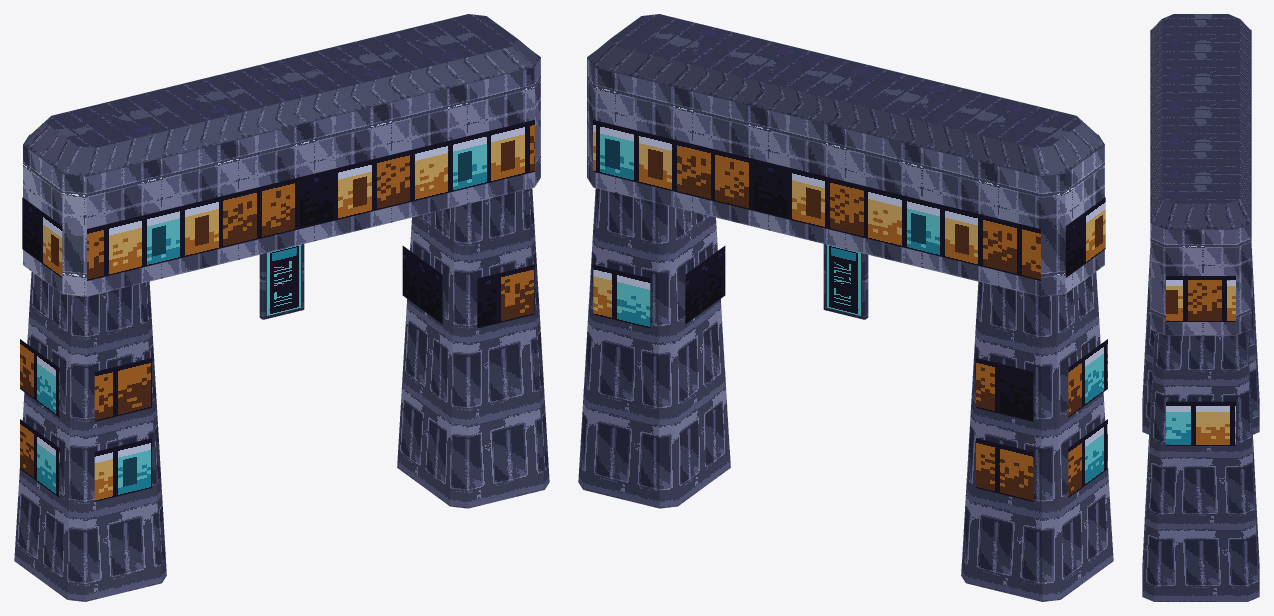
Rendered from cytower.arch.glb.
The picture shows the model from 3 angles, left to right: view 1: azimuth 30°, elevation 25°; view 2: azimuth 150°, elevation 25°; view 3: azimuth 270°, elevation 25°; orthographic projection. The views are drawn at different scales.
Visible parts, largest first — view 1: kit_arch, kit_card_windows; view 2: kit_arch, kit_card_windows; view 3: kit_arch, kit_card_windows.
Boxes of the visible parts, <box> form: kit_arch: <box>14,14,549,601</box>; kit_card_windows: <box>20,120,534,501</box>; kit_arch: <box>578,14,1113,601</box>; kit_card_windows: <box>593,120,1107,501</box>; kit_arch: <box>1142,14,1259,601</box>; kit_card_windows: <box>1166,276,1235,445</box>.
Size of the model in its own units: 25.3 by 22 by 6.
Materials: 9 (9 with a texture image).
